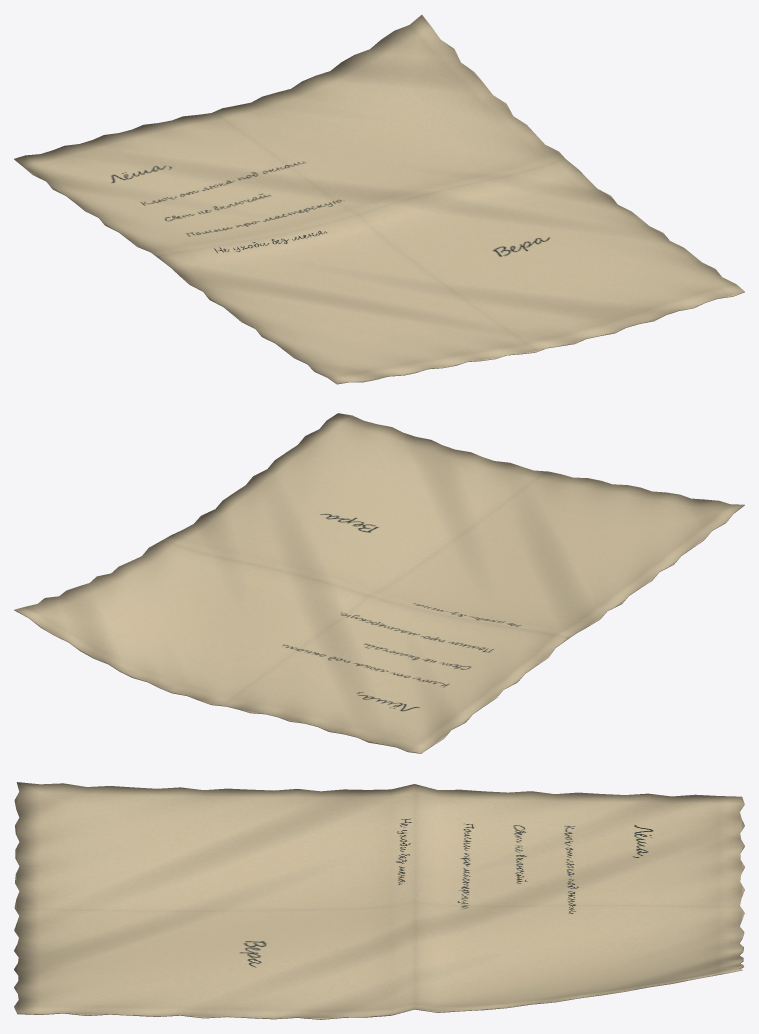
File: paper-note.glb
3 renders of one model, top to bottom at view 1: azimuth 30°, elevation 25°; view 2: azimuth 150°, elevation 25°; view 3: azimuth 270°, elevation 25°, orthographic. The views are drawn at different scales.
Parts seen in each view (by area): view 1: paper-note; view 2: paper-note; view 3: paper-note.
Boxes of the visible parts, x1,y1,x2,y2 form: paper-note: [14, 15, 744, 384]; paper-note: [14, 413, 744, 753]; paper-note: [14, 782, 744, 1019].
Size of the model in its own units: 0.2425 by 0.0284 by 0.3326.
1 material, 1 textured.
